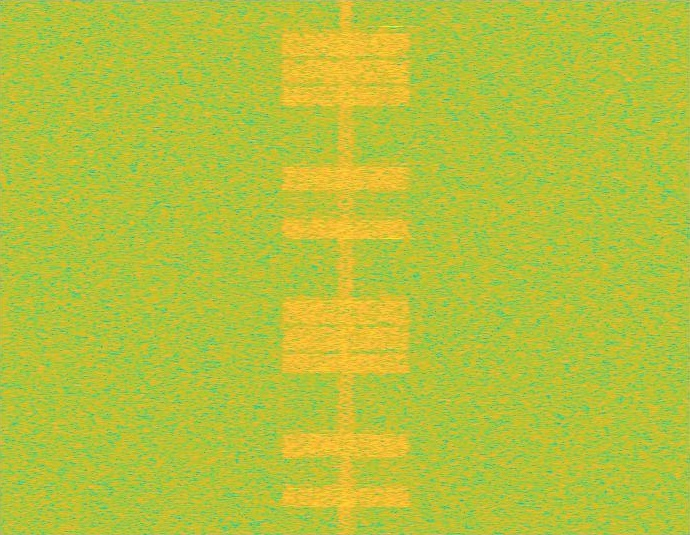DSSS: (337, 0, 355, 534)
LTE: (277, 0, 415, 534)
Radar: (385, 0, 399, 534)
